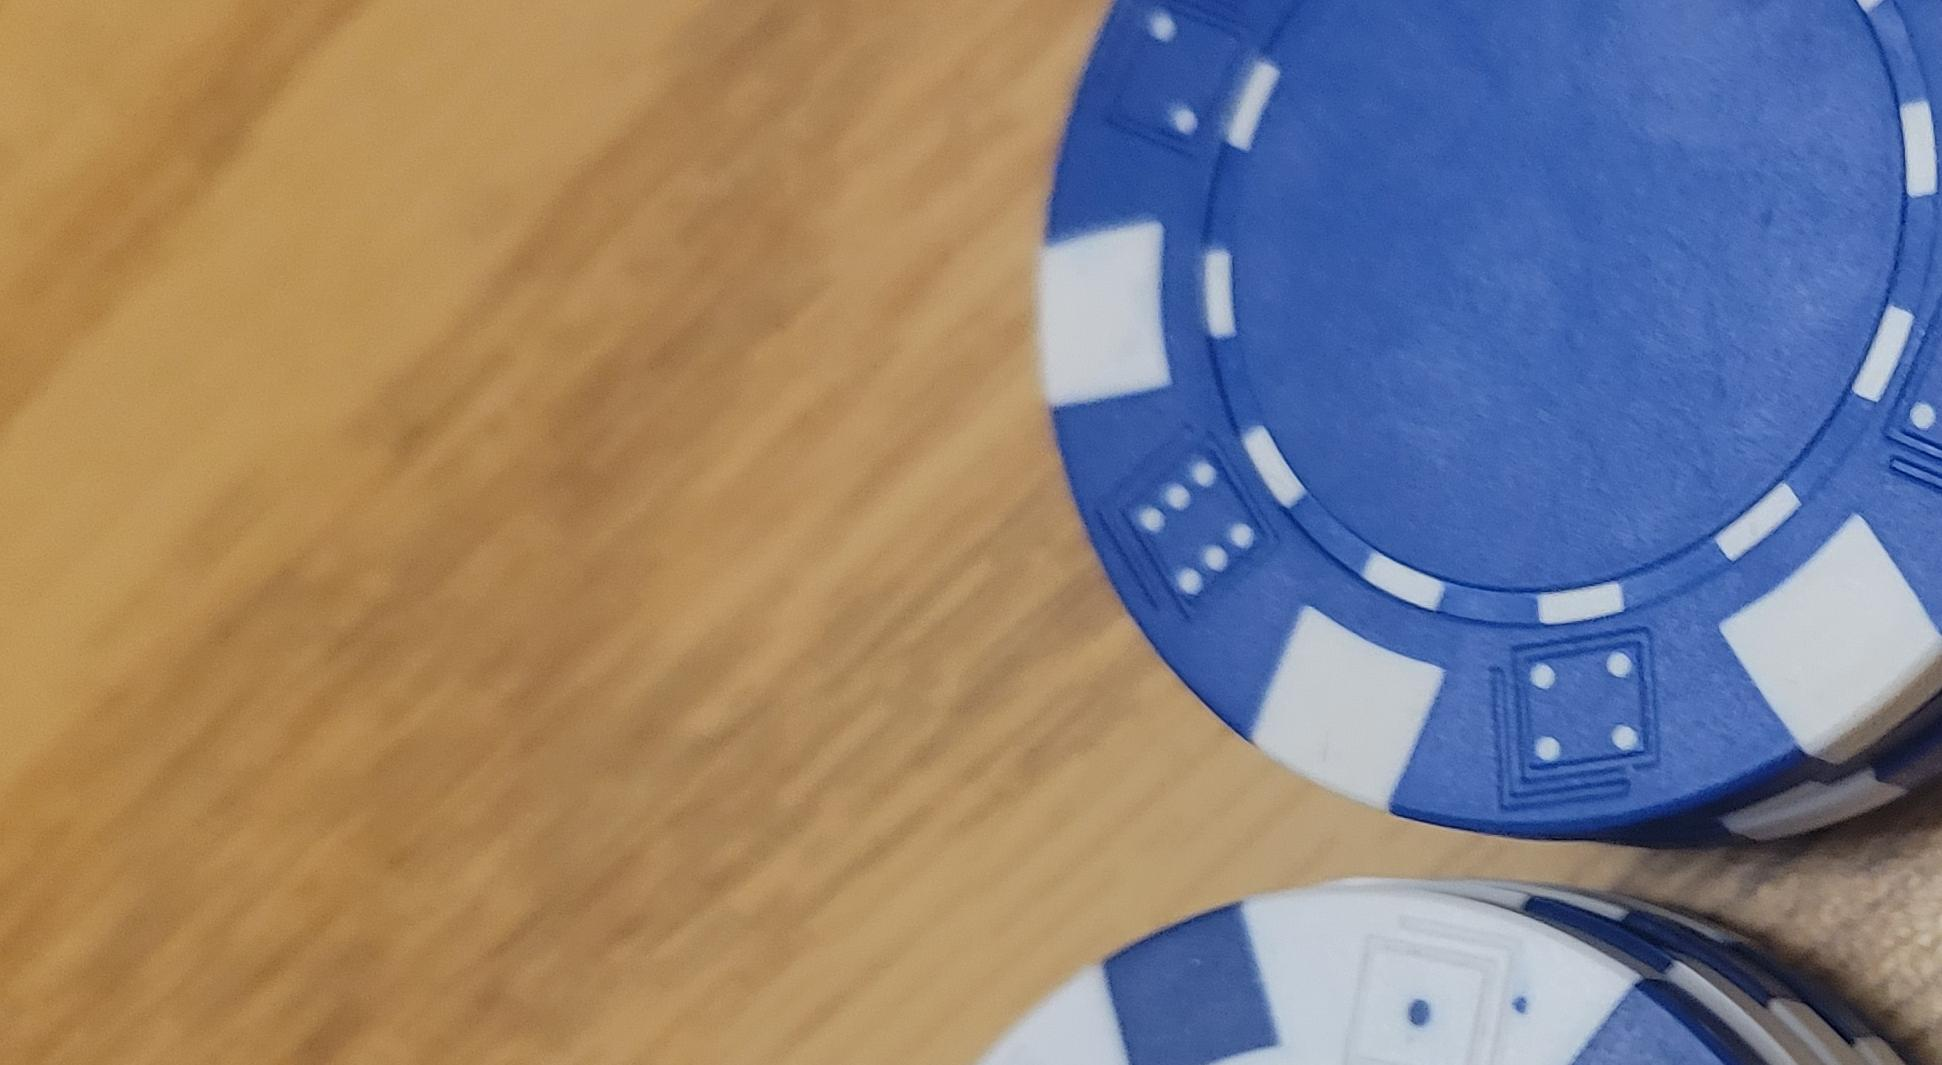Chip: (1, 235, 1427, 1065)
